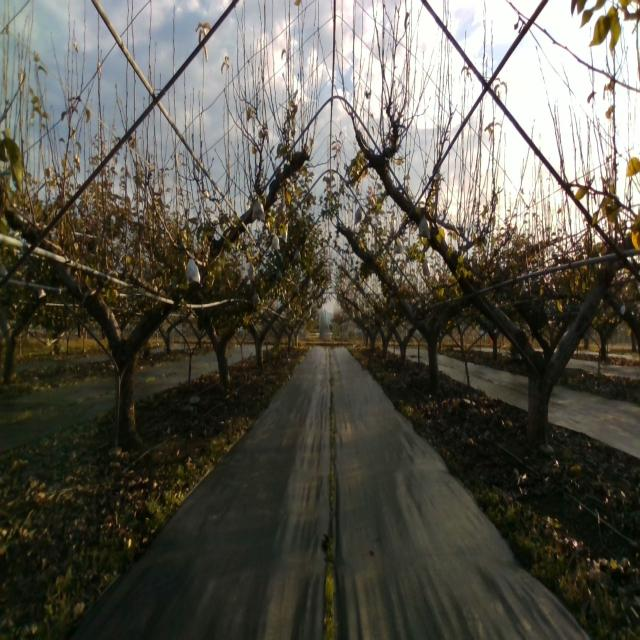pearbags: (186, 252, 200, 285), (416, 214, 431, 240), (252, 197, 265, 222)
